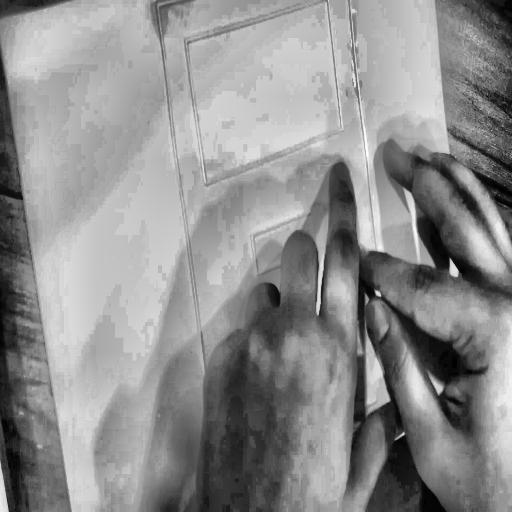bottom_right: (470, 381, 481, 398)
door: (151, 0, 418, 512)
